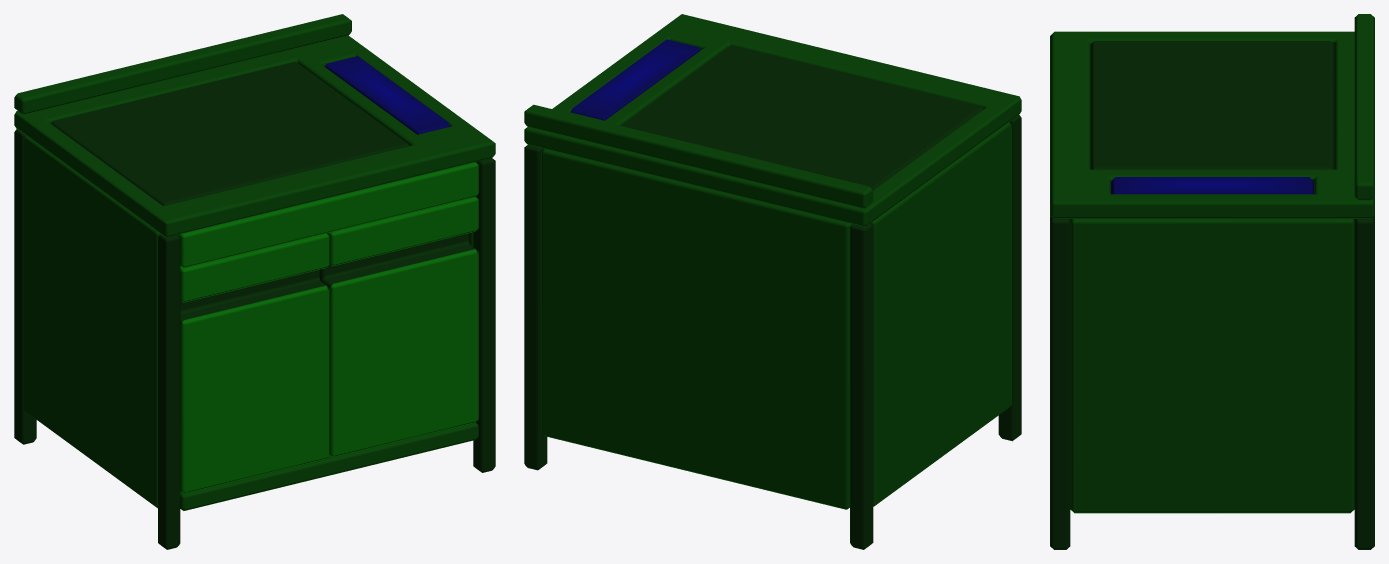
The picture shows the model from 3 angles, left to right: view 1: azimuth 30°, elevation 25°; view 2: azimuth 150°, elevation 25°; view 3: azimuth 270°, elevation 25°; orthographic projection. The views are drawn at different scales.
Parts seen in each view (by area): view 1: Plane.605; view 2: Plane.605; view 3: Plane.605.
Boxes of the visible parts, x1,y1,x2,y2 form: Plane.605: (14, 14, 495, 549); Plane.605: (524, 14, 1021, 549); Plane.605: (1050, 14, 1374, 549).
Bounding box in the file's own units: 1 × 1 × 0.8.
